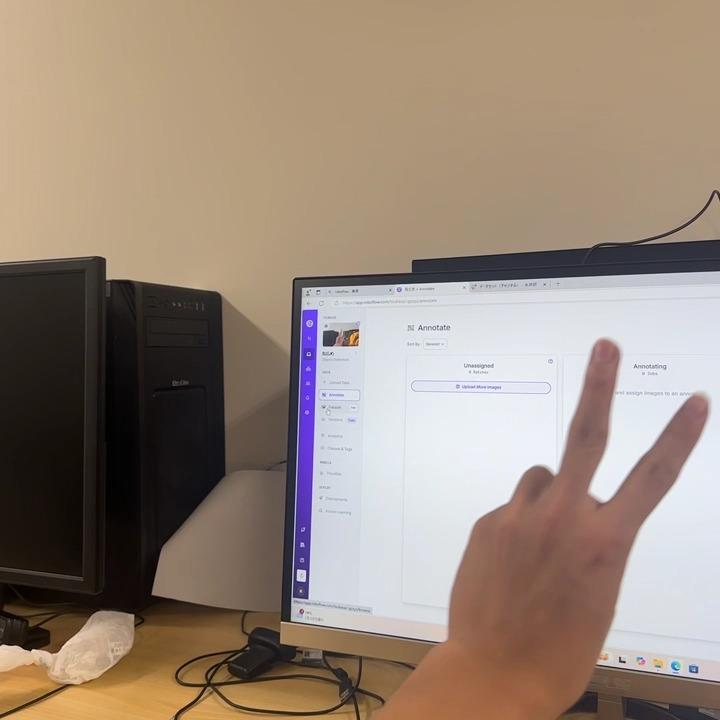without_gloves: (369, 310, 717, 720)
